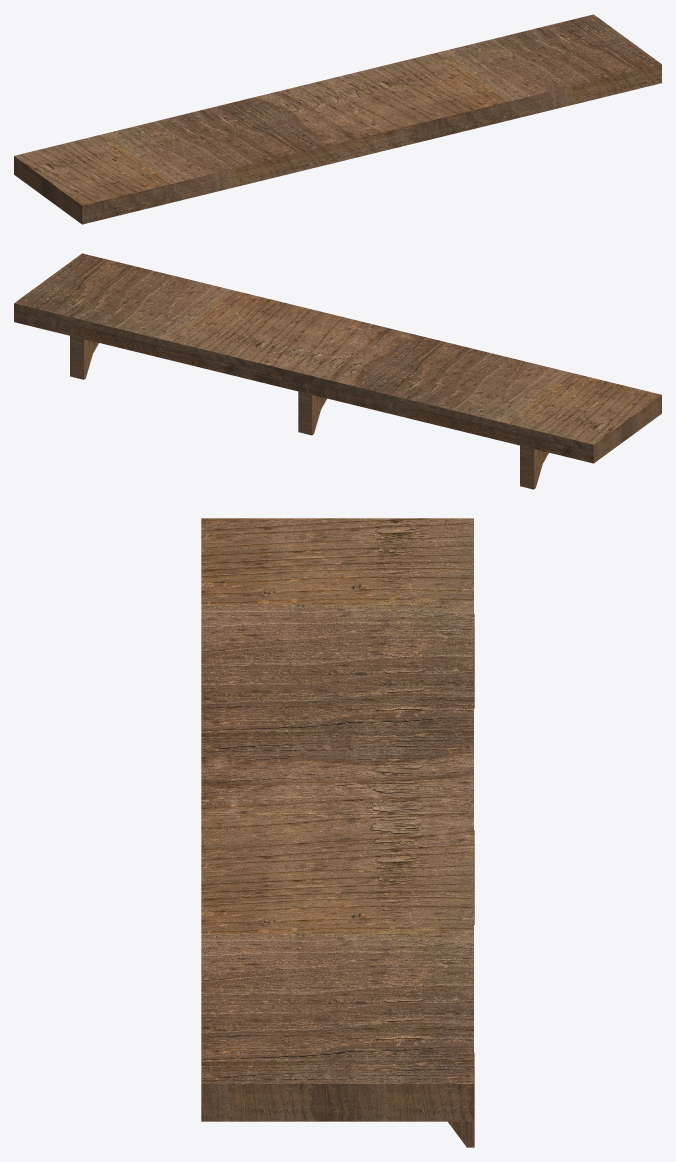
File: Kärpänen_Hylly.fbx
3 renders of one model, top to bottom at view 1: azimuth 30°, elevation 25°; view 2: azimuth 150°, elevation 25°; view 3: azimuth 270°, elevation 25°, orthographic. The views are drawn at different scales.
Visible parts, largest first — view 1: Cube.037; view 2: Cube.037, Cube.039, Cube.040, Cube.038; view 3: Cube.037.
Boxes of the visible parts, x1=… form: Cube.037: x1=14, y1=14, x2=661, y2=224; Cube.037: x1=14, y1=253, x2=661, y2=463; Cube.039: x1=298, y1=391, x2=326, y2=435; Cube.040: x1=70, y1=335, x2=98, y2=379; Cube.038: x1=520, y1=445, x2=548, y2=489; Cube.037: x1=201, y1=518, x2=473, y2=1121.
Size of the model in its own units: 3440 by 336 by 703.
Materials: 1 (1 with a texture image).
